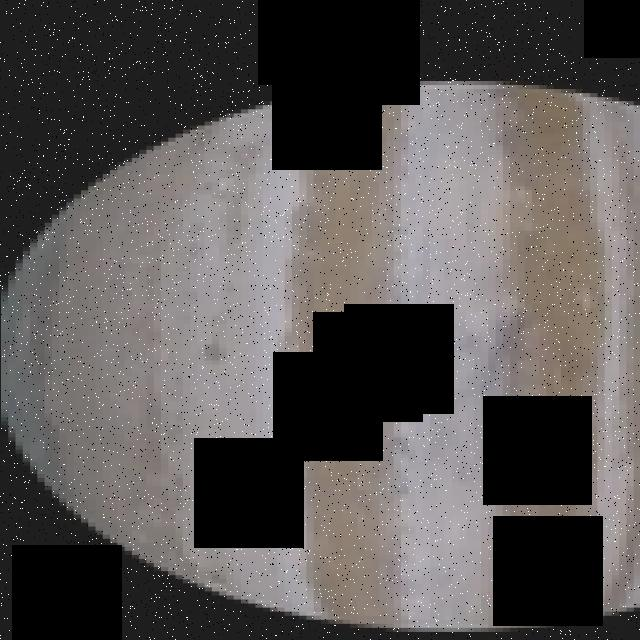Jupiter: (0, 81, 640, 636)
